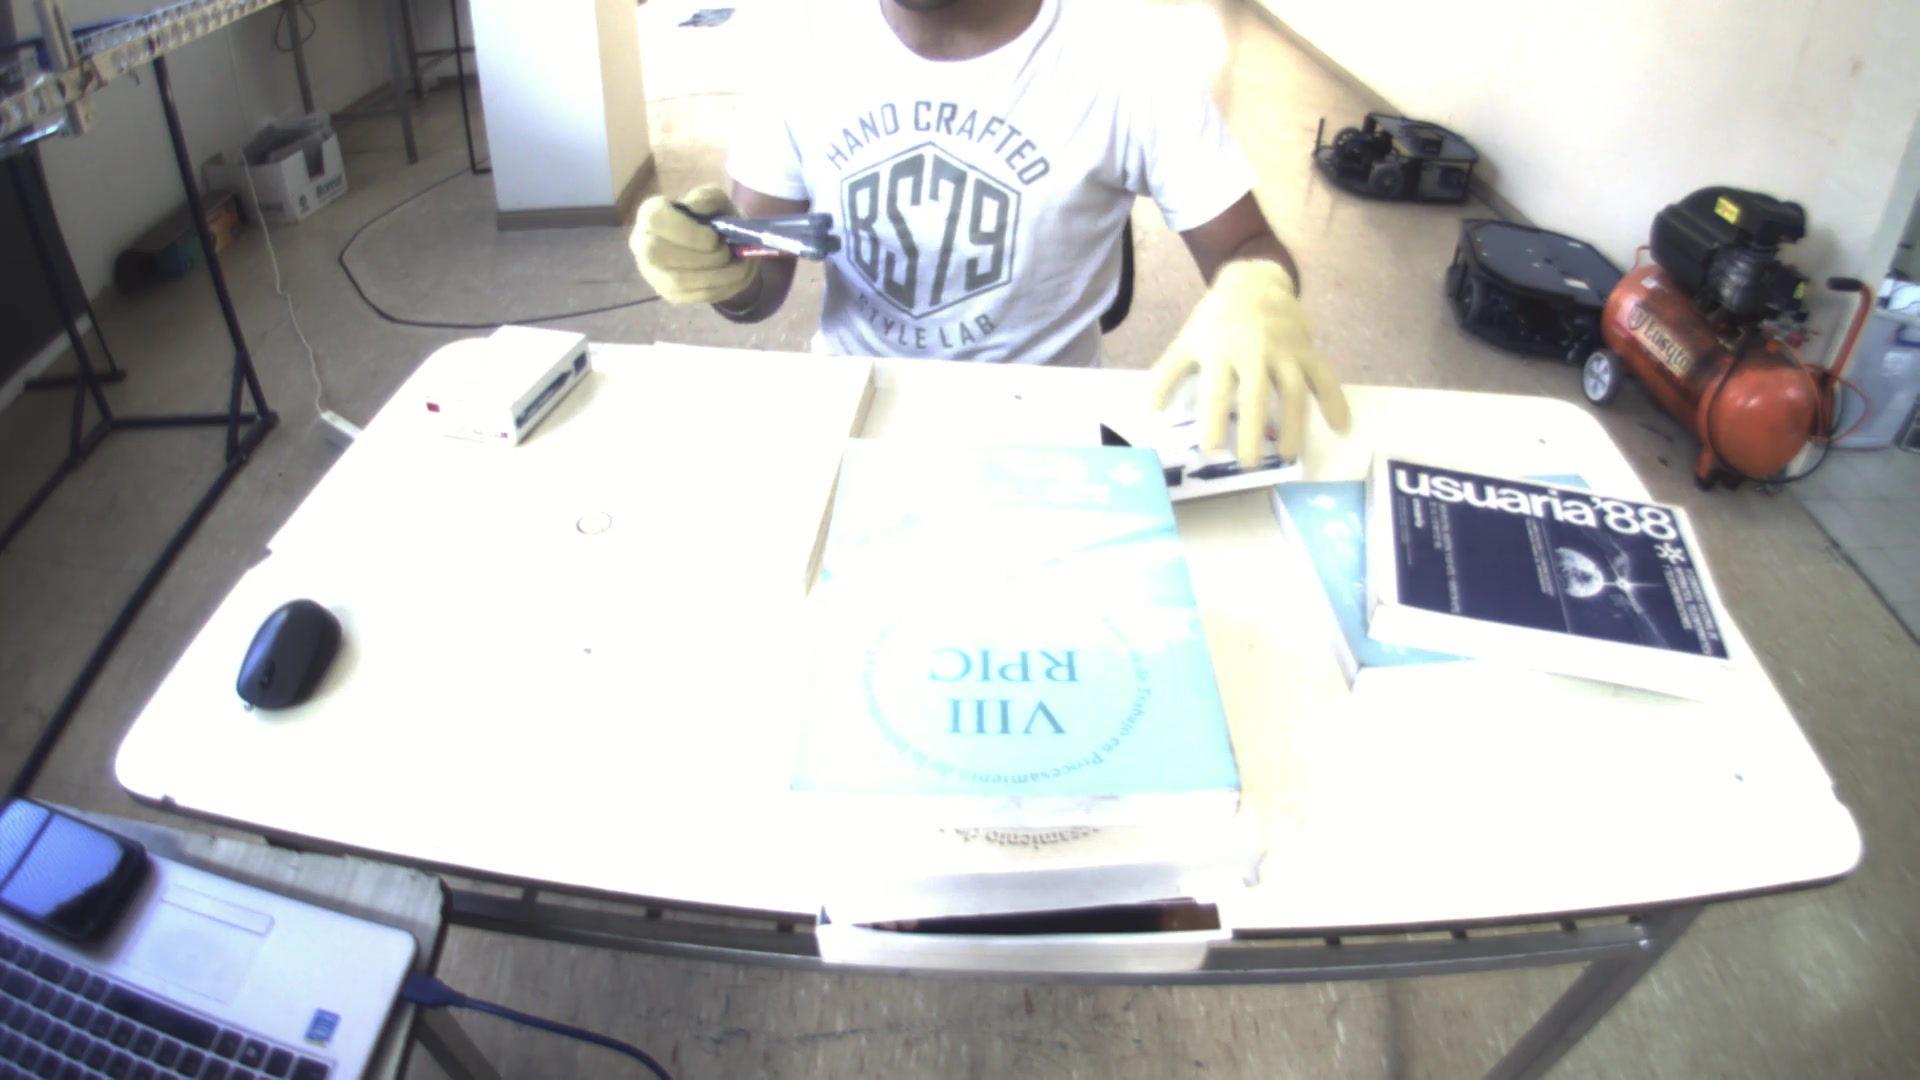hand: (1139, 249, 1375, 473), (615, 185, 764, 316)
